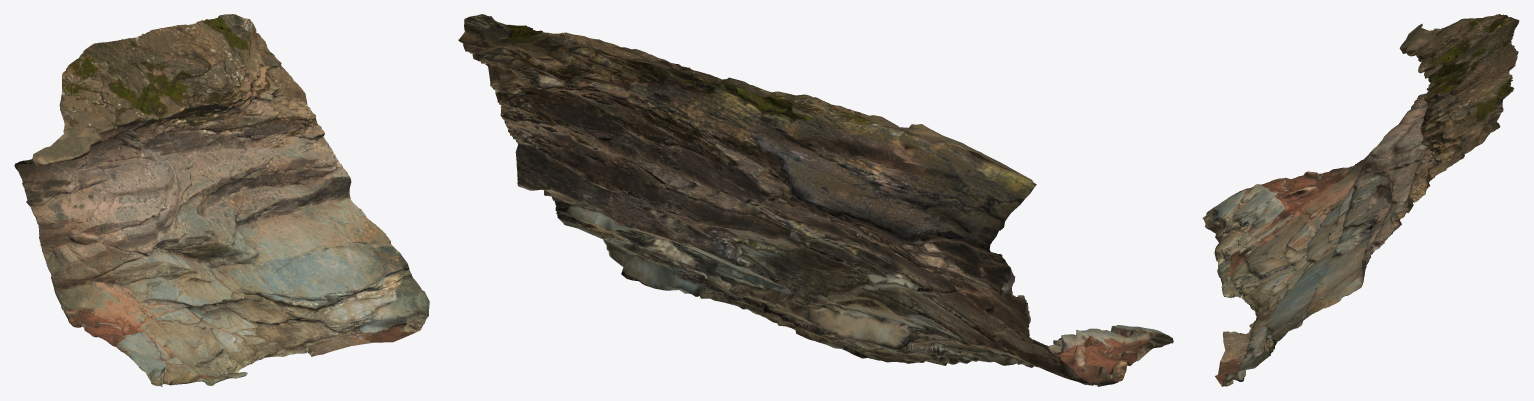
The model's file is rock_face_01_formation-lod0.glb.
3 views of the same model, side by side, from view 1: azimuth 30°, elevation 25°; view 2: azimuth 150°, elevation 25°; view 3: azimuth 270°, elevation 25° (orthographic). The views are drawn at different scales.
Visible parts, largest first — view 1: rock_face_01; view 2: rock_face_01; view 3: rock_face_01.
Part boxes in pixels (x1,y1,x2,y2): rock_face_01: (14, 14, 429, 386); rock_face_01: (458, 14, 1173, 386); rock_face_01: (1202, 14, 1519, 386).
Size of the model in its own units: 4.95 by 3.56 by 3.83.
1 material, 1 textured.
